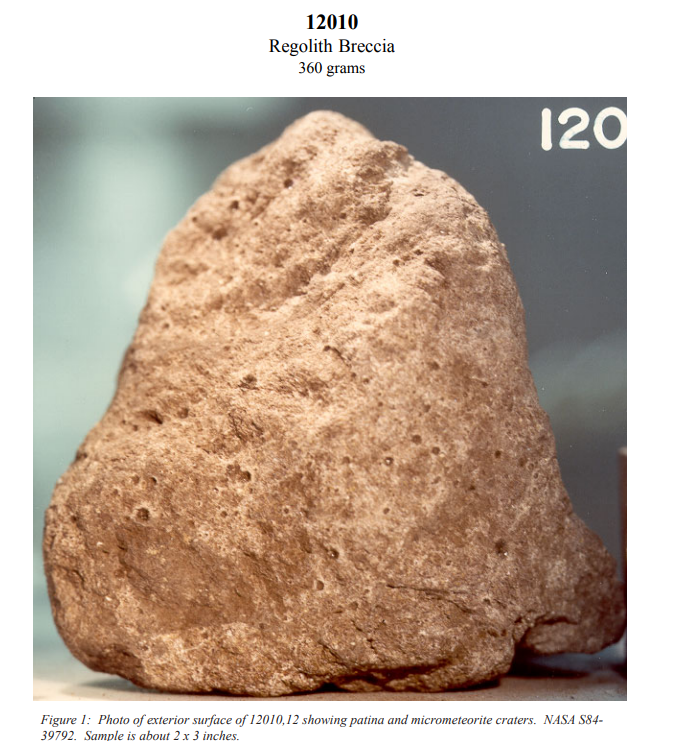Breccia: (89, 110, 582, 691), (58, 441, 600, 667), (240, 231, 481, 622)
